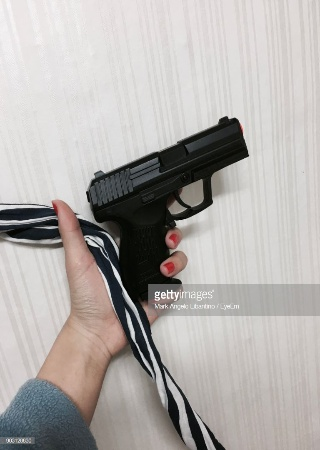handgun: (86, 115, 252, 298)
